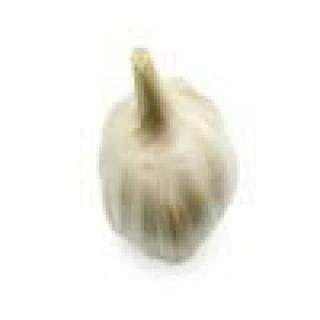Bawang Putih: (78, 39, 263, 270)
